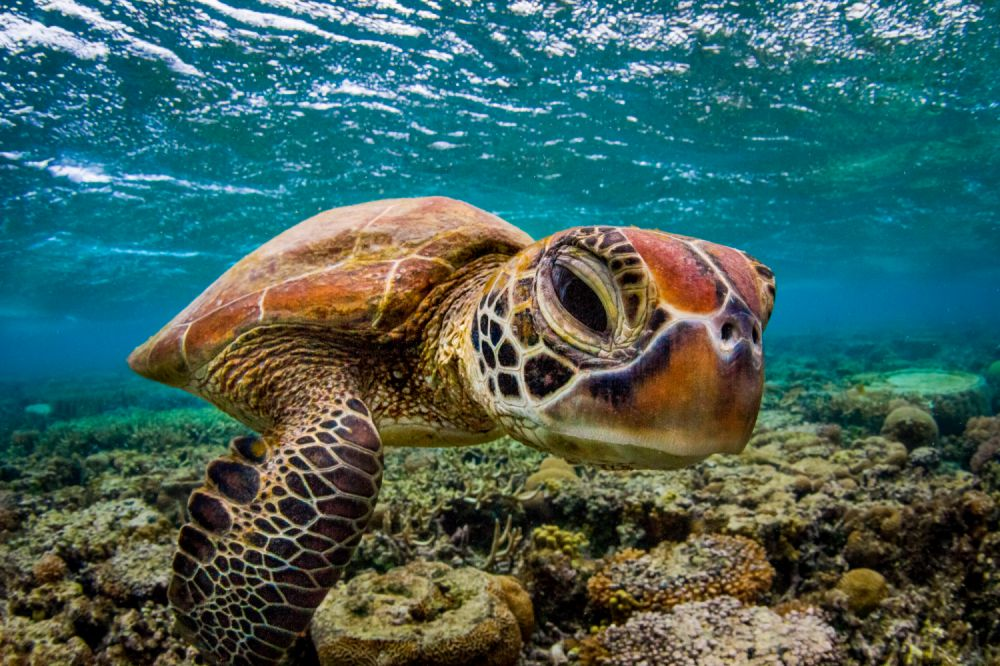trutle: (80, 181, 794, 605)
